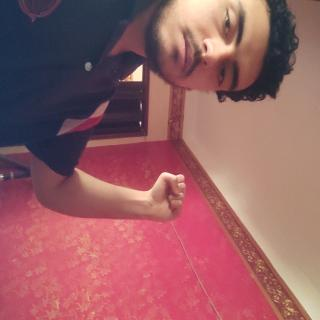SAD: (126, 175, 170, 233)
